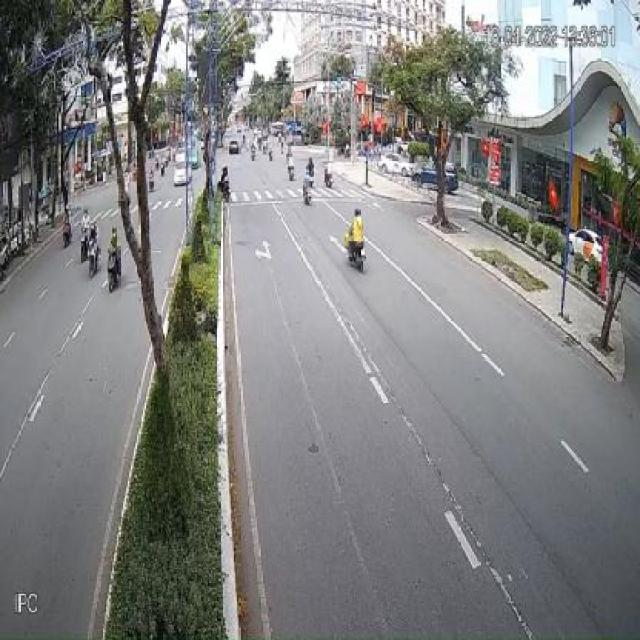motorbike: (342, 207, 369, 273), (106, 224, 121, 292), (79, 210, 95, 273), (88, 212, 100, 279), (302, 162, 314, 208), (220, 167, 230, 198)
